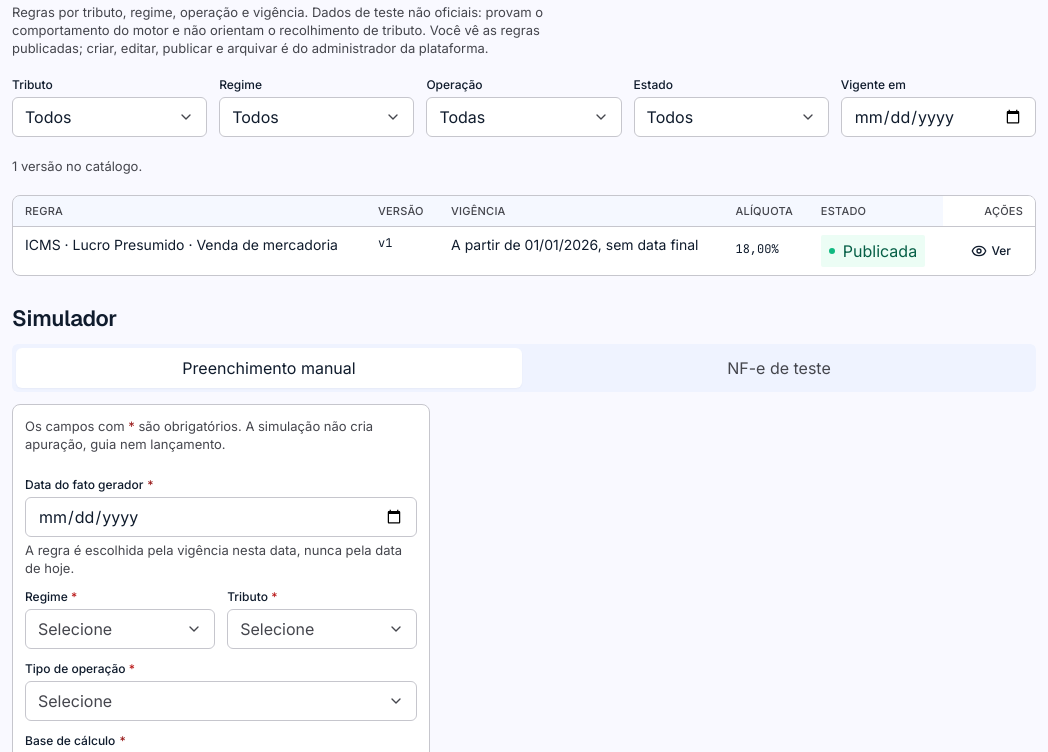
Scenario: AreaDoMotor — página do motor tributário (SPEC-016 §5) › o simulador abre no preenchimento manual e troca para a NF-e de teste pela URL
(page scrolled)
What coordinates should you click on to do the following:
click the tab "NF-e de teste"
I would click on:
 (779, 368)
Its box is x1=526 y1=348 x2=1032 y2=388.
(page scrolled)
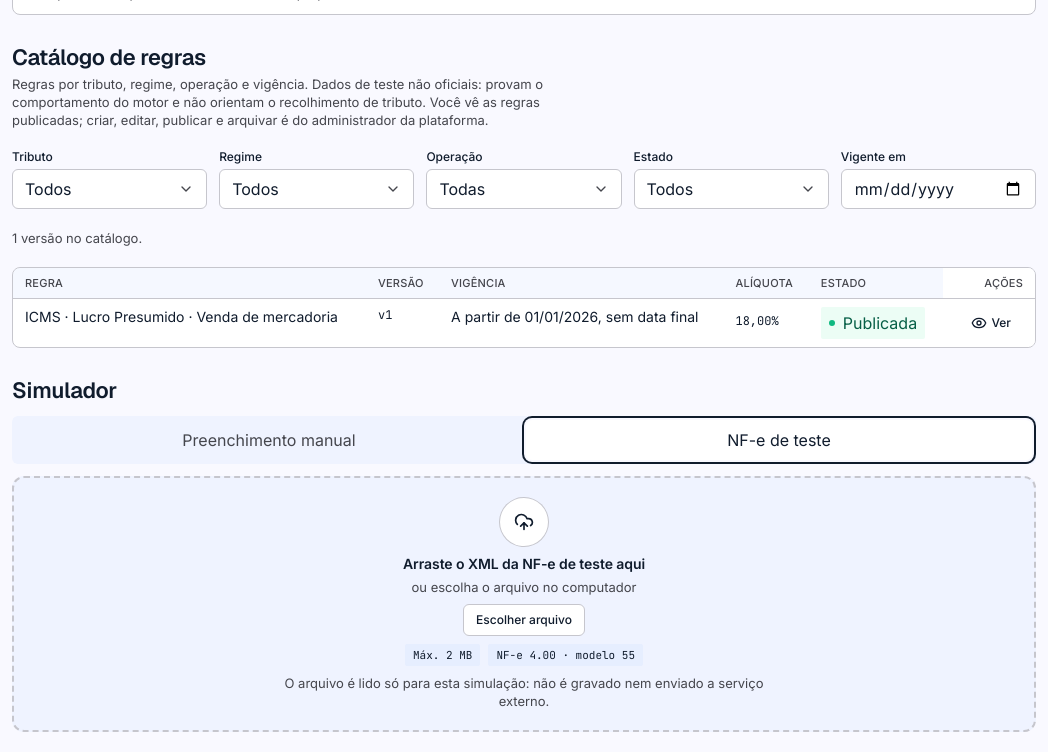
expect the table named "Regras tributárias" is shown: met, box x1=13 y1=268 x2=1035 y2=347
expect the element named "Arquivo XML da NF-e" is shown: met, box x1=12 y1=476 x2=1036 y2=732
